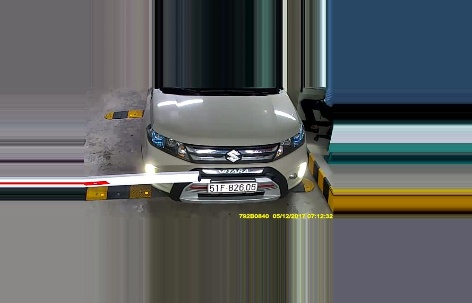plate: (208, 178, 260, 196)
